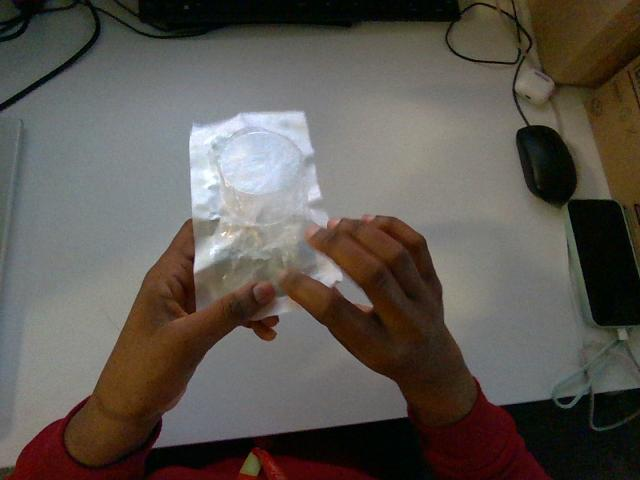gallipot: (190, 112, 341, 318)
